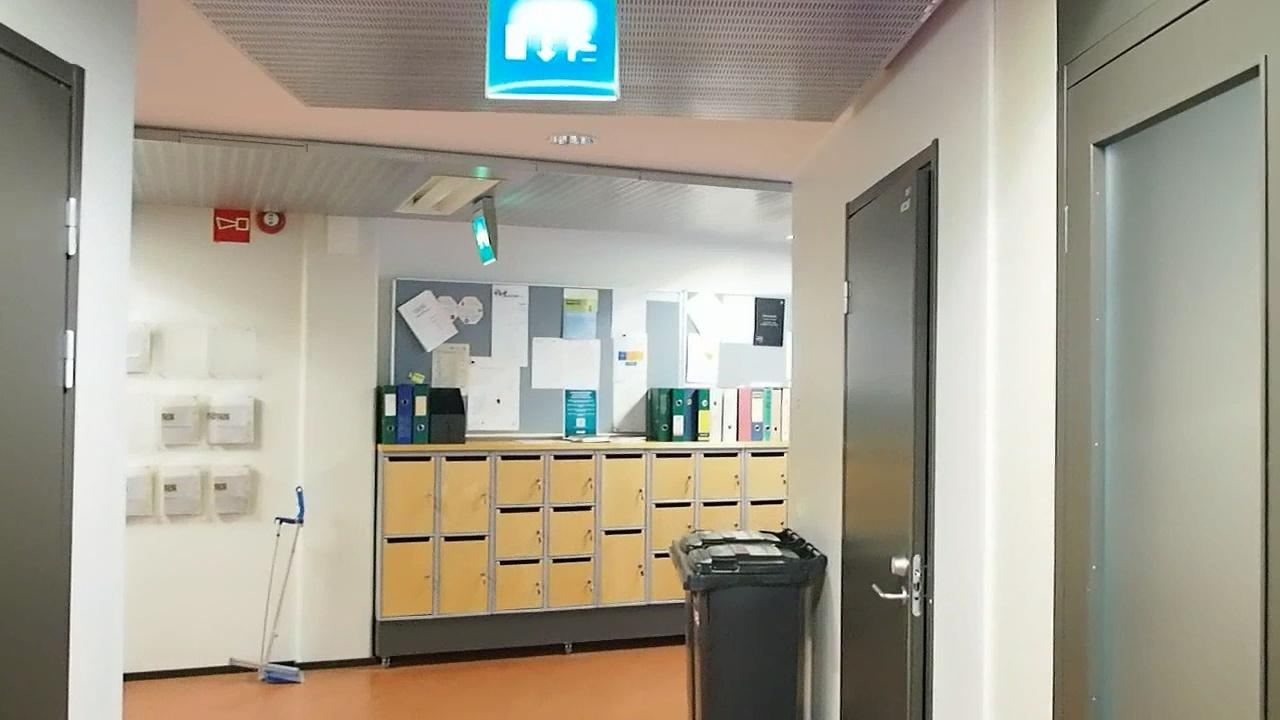exit: (487, 4, 616, 99)
trashbin: (678, 522, 819, 718)
